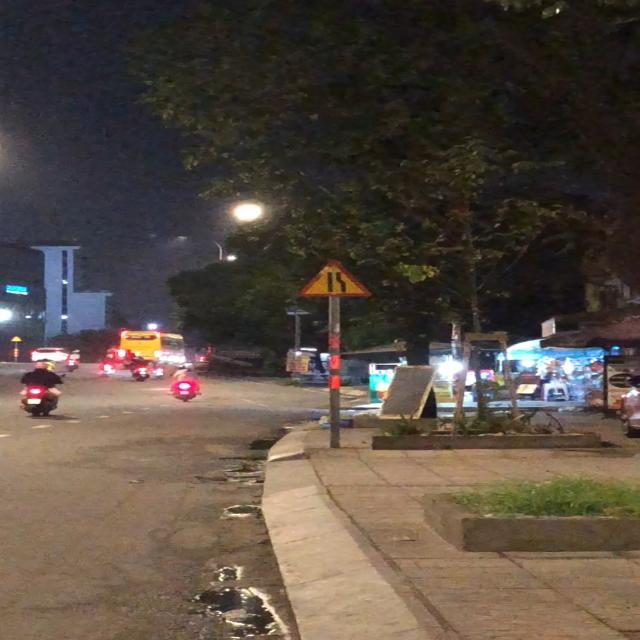Bien bao duong bi thu hep: (284, 258, 381, 302)
